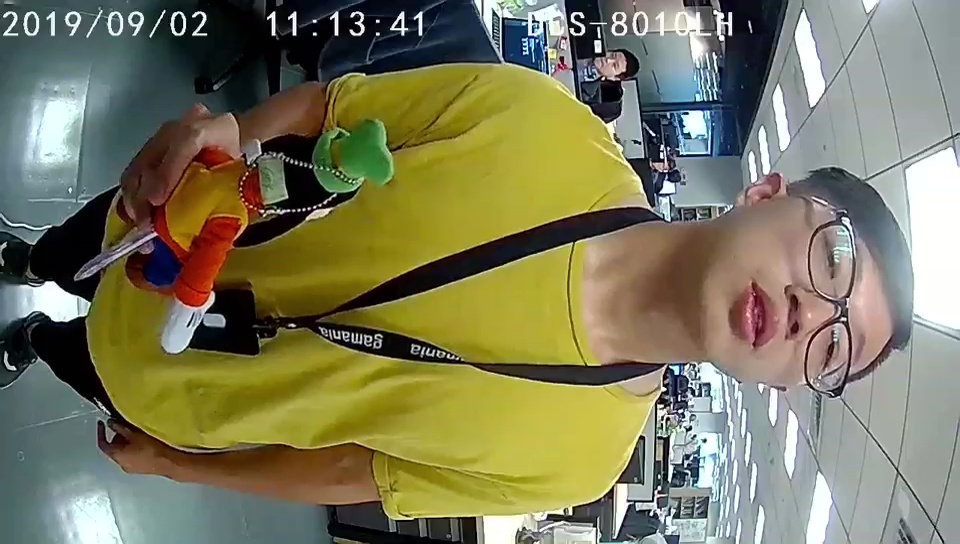goofy: (161, 121, 391, 355)
